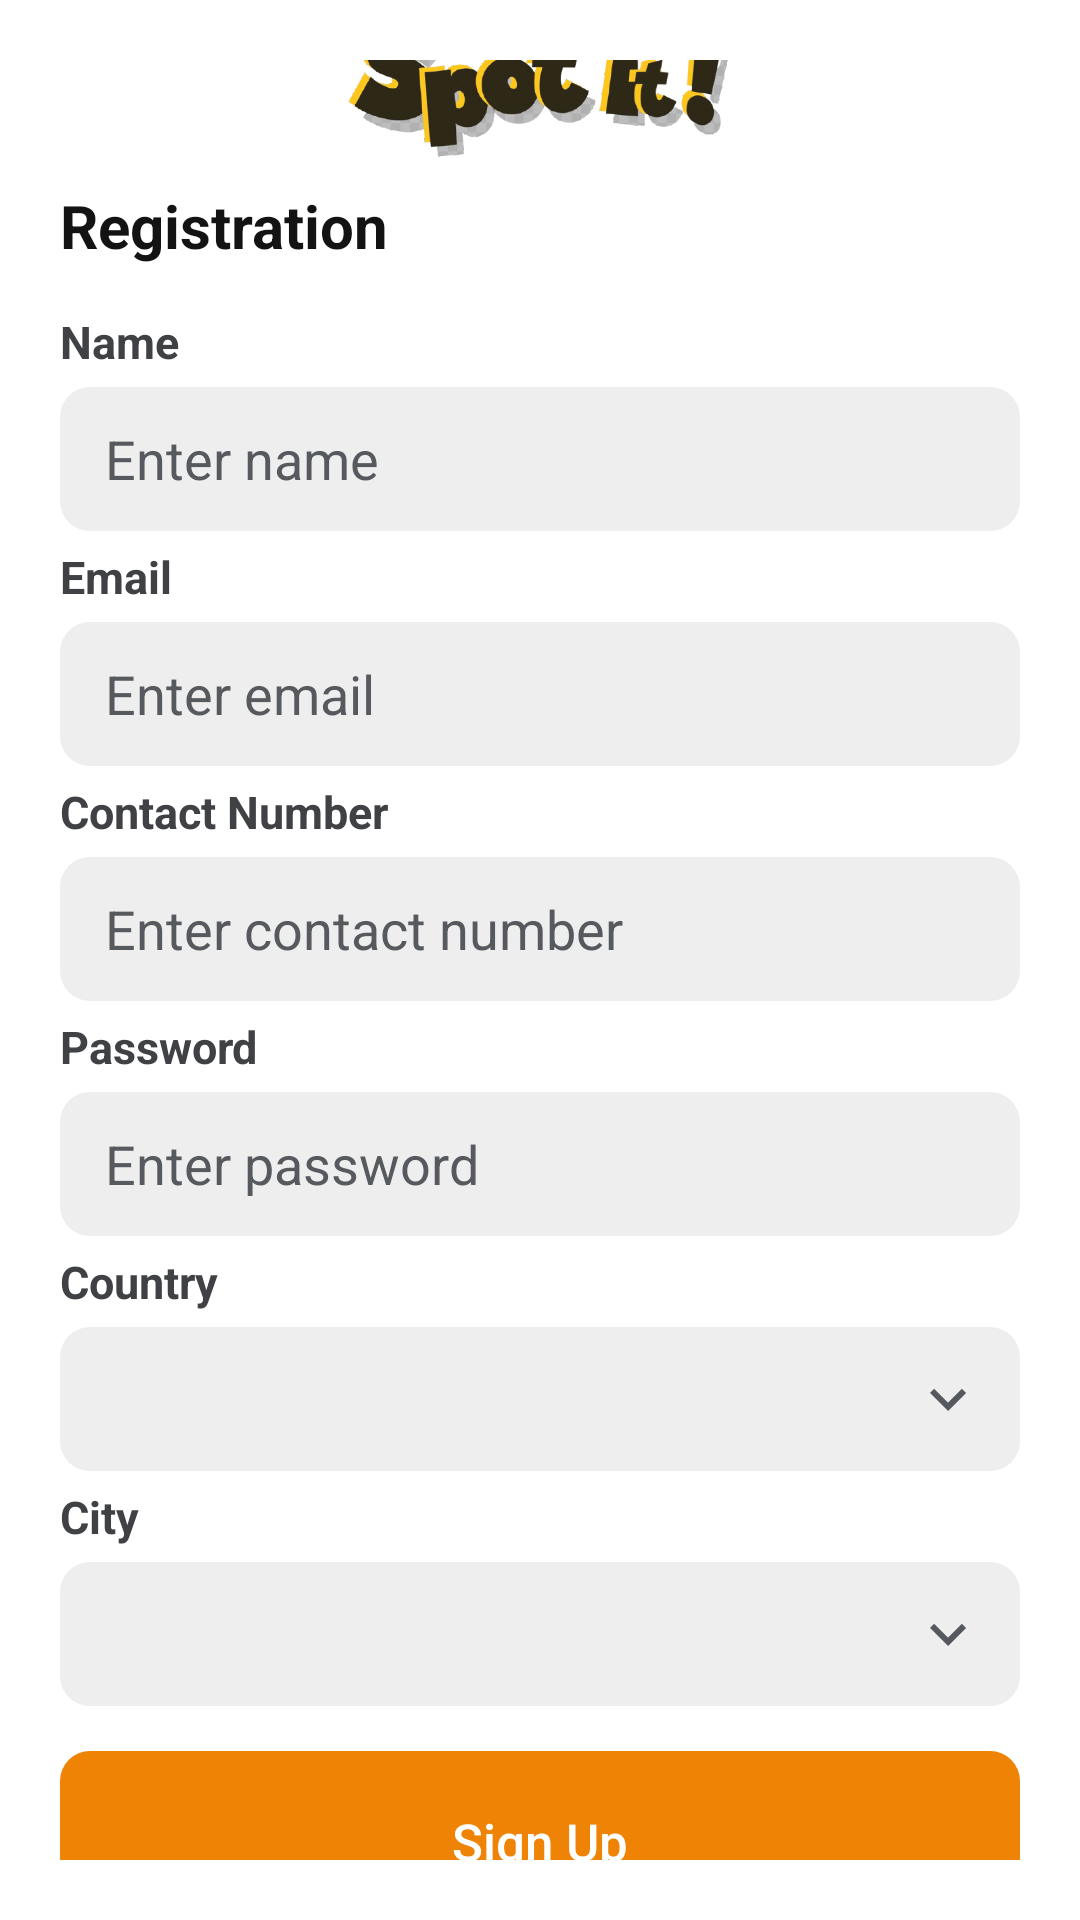

Named icons in this screenshot (1080px×1920px) and their bounding boxes, BBox(x1, y1, x2, y2):
arrow down: BBox(930, 1389, 966, 1411), BBox(930, 1624, 966, 1646)
